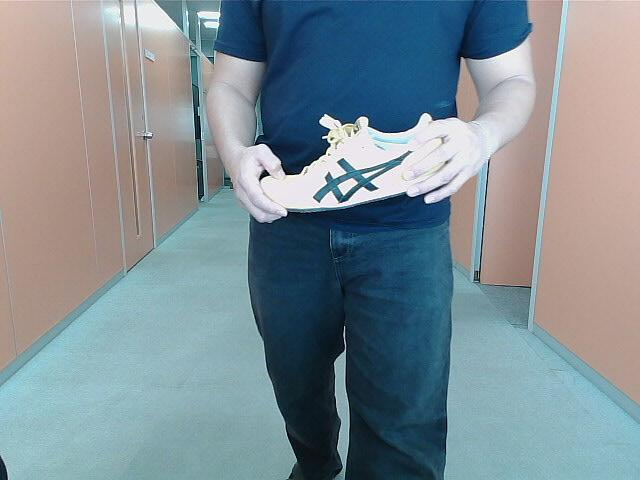Shoes: (258, 111, 444, 217)
